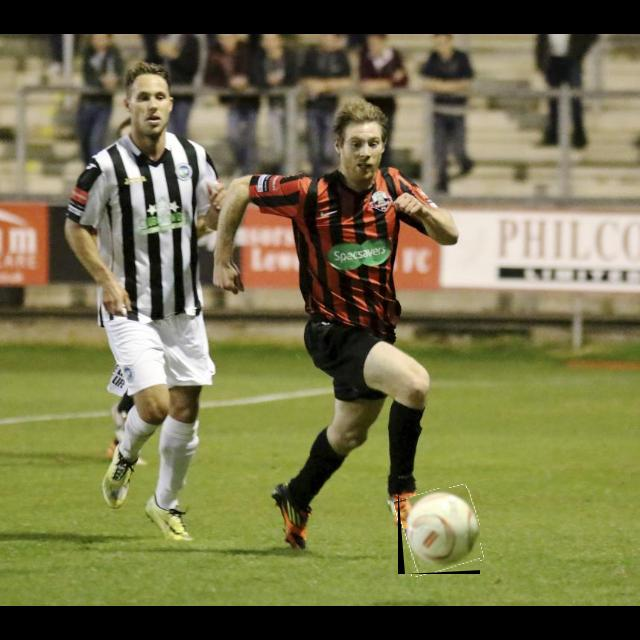Football: (398, 488, 480, 574)
